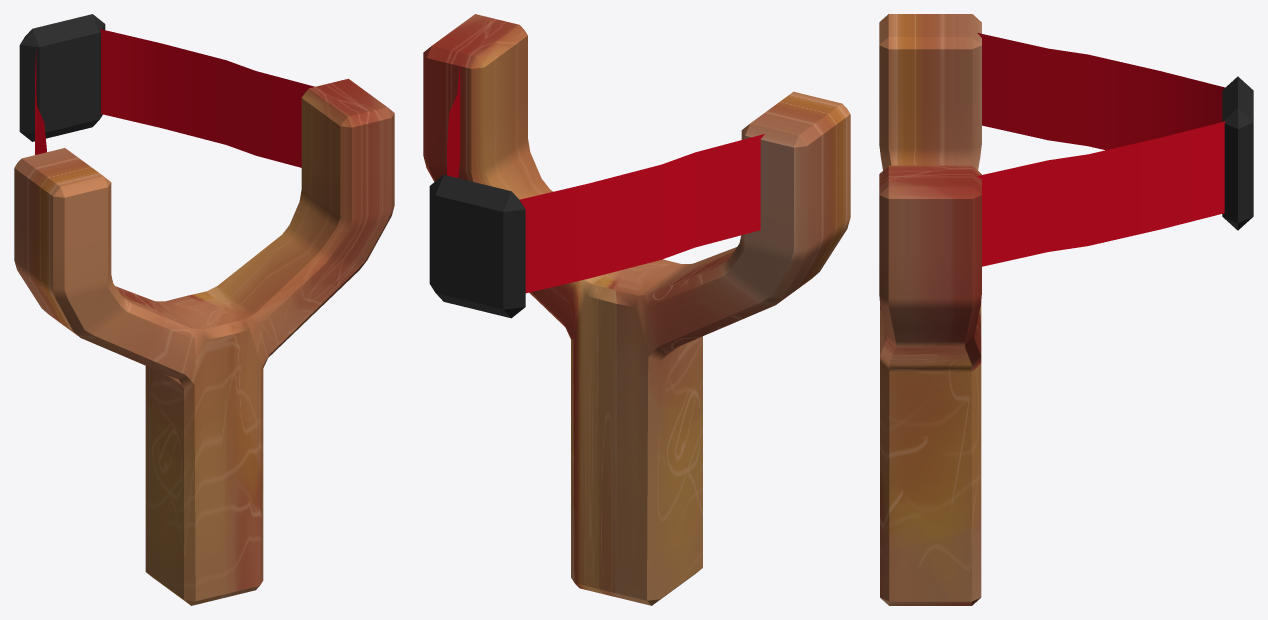
3 views of the same model, side by side, from view 1: azimuth 30°, elevation 25°; view 2: azimuth 150°, elevation 25°; view 3: azimuth 270°, elevation 25° (orthographic). The views are drawn at different scales.
Visible parts, largest first — view 1: pCube1, pPlane1, pCube2; view 2: pCube1, pPlane1, pCube2; view 3: pCube1, pPlane1, pCube2.
Boxes of the visible parts, x1,y1,x2,y2 form: pCube1: (14,78,394,605); pPlane1: (35,29,314,167); pCube2: (19,14,105,141); pCube1: (423,14,850,605); pPlane1: (447,63,764,293); pCube2: (429,175,525,318); pCube1: (879,14,981,605); pPlane1: (977,33,1225,266); pCube2: (1222,76,1253,230).
Size of the model in its own units: 4.22 by 5.41 by 3.7.
Materials: 3 (1 with a texture image).
